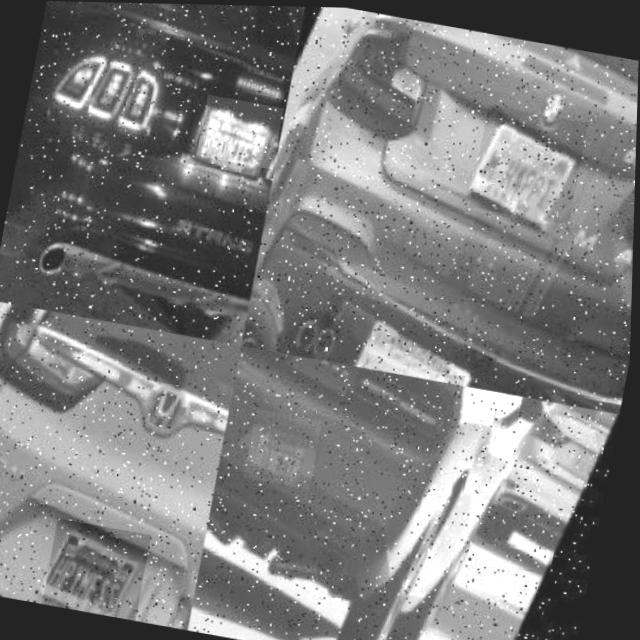LicensePlate: (470, 102, 589, 223), (46, 518, 155, 620), (246, 407, 325, 489), (199, 96, 283, 167)
